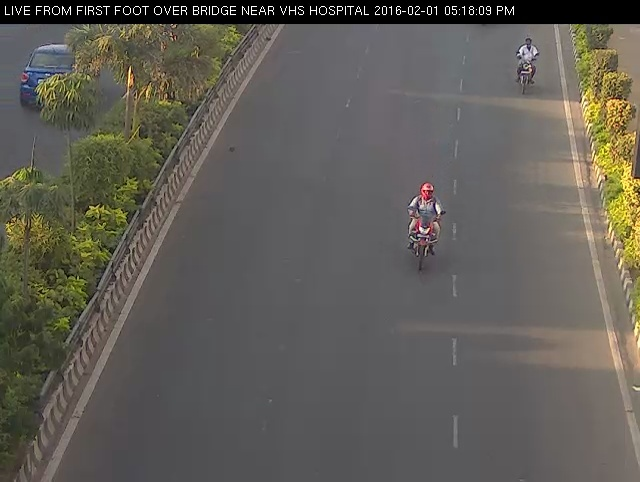Person: (402, 180, 451, 276), (510, 37, 545, 96)
